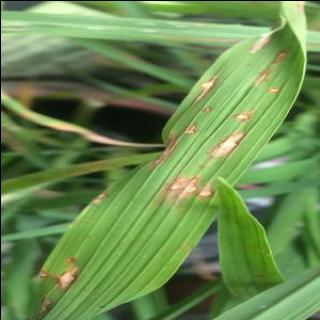Blast: (211, 132, 242, 157), (251, 28, 278, 52), (55, 258, 76, 286), (195, 77, 213, 101), (179, 176, 195, 198)
